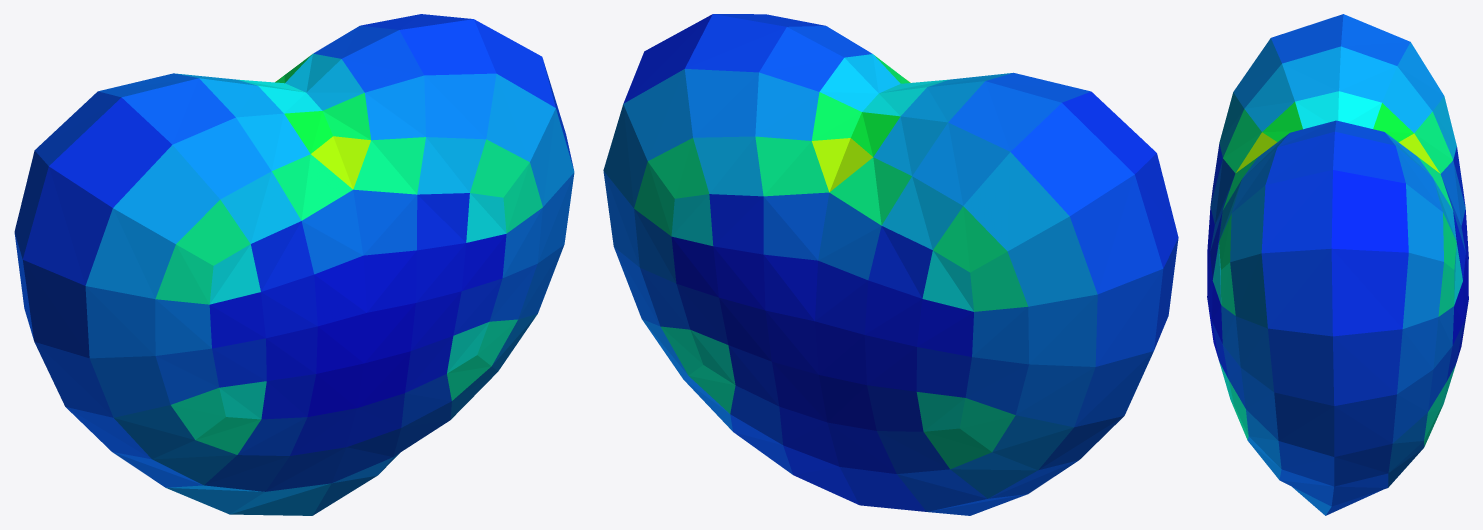
File: heart_opt_quality.obj
3 renders of one model, left to right at view 1: azimuth 30°, elevation 25°; view 2: azimuth 150°, elevation 25°; view 3: azimuth 270°, elevation 25°, orthographic. The views are drawn at different scales.
Bounding box in the file's own units: 2.79 × 2.24 × 1.29.
